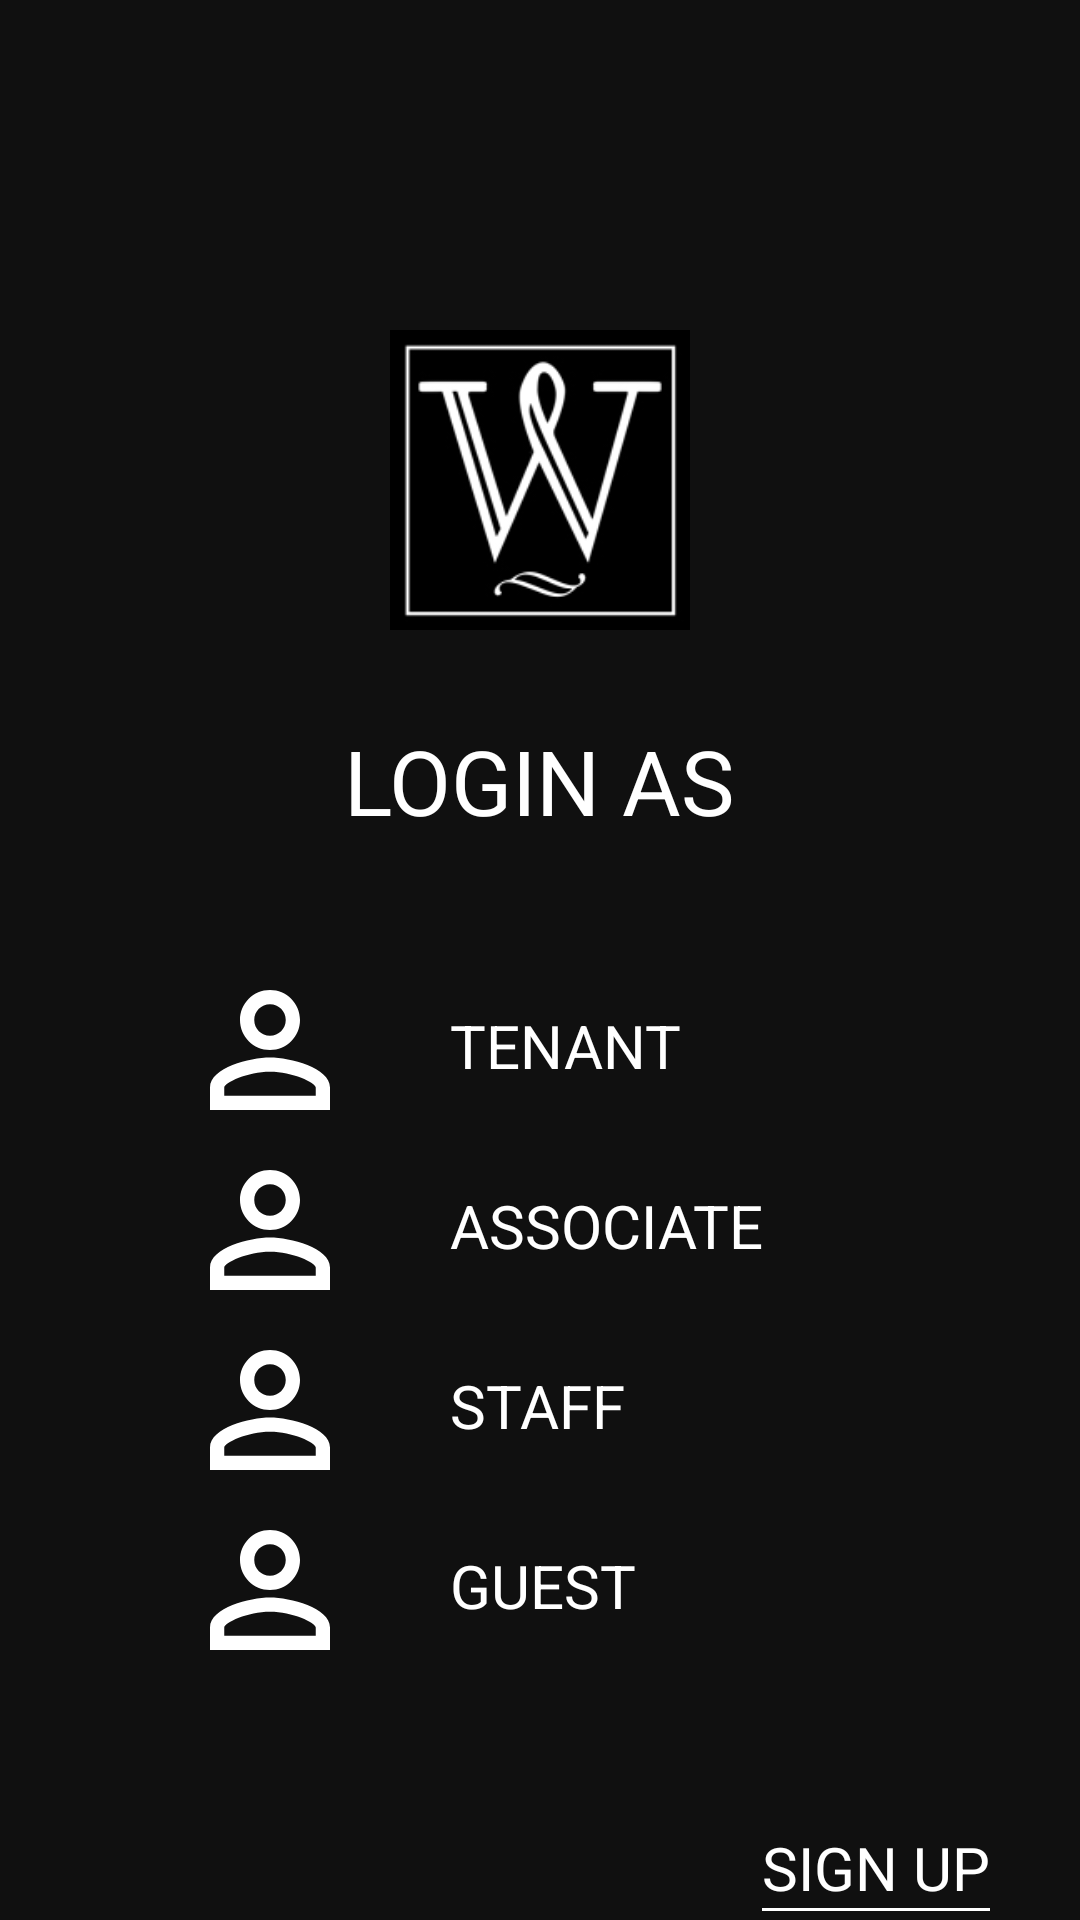

Screen size 1080 x 1920. Icon name, then its box in pixels as (x1, y1, x2, y2):
person: (210, 990, 330, 1110), (210, 1170, 330, 1290), (210, 1350, 330, 1470), (210, 1530, 330, 1650)
